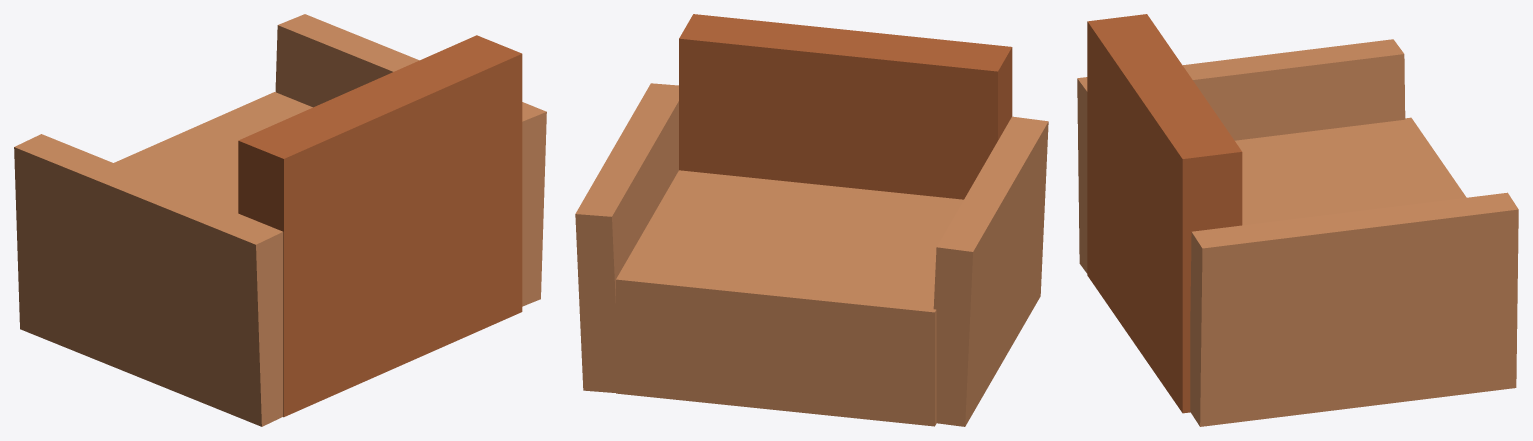
The model's file is sofa2.fbx.
The picture shows the model from 3 angles, left to right: view 1: azimuth 30°, elevation 25°; view 2: azimuth 150°, elevation 25°; view 3: azimuth 270°, elevation 25°; orthographic projection. The views are drawn at different scales.
Parts seen in each view (by area): view 1: sofa2; view 2: sofa2; view 3: sofa2.
Part boxes in pixels (left/top/right/bottom): sofa2: left=14, top=14, right=546, bottom=426; sofa2: left=575, top=14, right=1048, bottom=426; sofa2: left=1077, top=14, right=1518, bottom=426.
Size of the model in its own units: 315 by 179 by 281.
